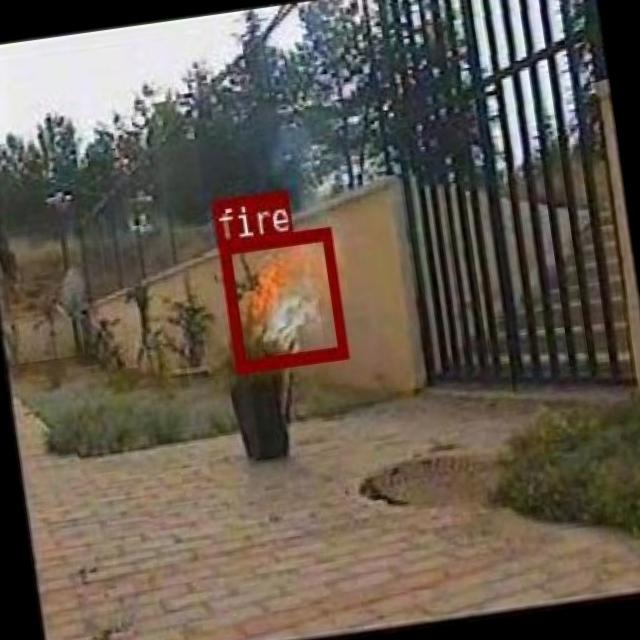fire: (216, 227, 346, 369)
